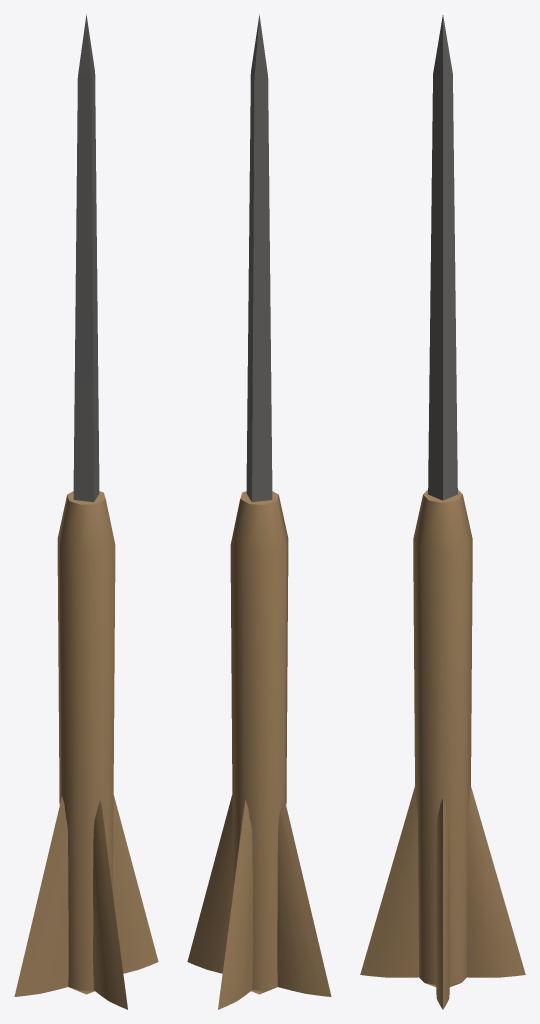
The model's file is kestros.glb.
3 views of the same model, side by side, from view 1: azimuth 30°, elevation 25°; view 2: azimuth 150°, elevation 25°; view 3: azimuth 270°, elevation 25° (orthographic).
Visible parts, largest first — view 1: kestros; view 2: kestros; view 3: kestros.
Part boxes in pixels (x1,y1,x2,y2): kestros: (14, 14, 158, 1009); kestros: (187, 14, 331, 1009); kestros: (360, 15, 525, 1009).
Size of the model in its own units: 0.1 by 0.65 by 0.1.
